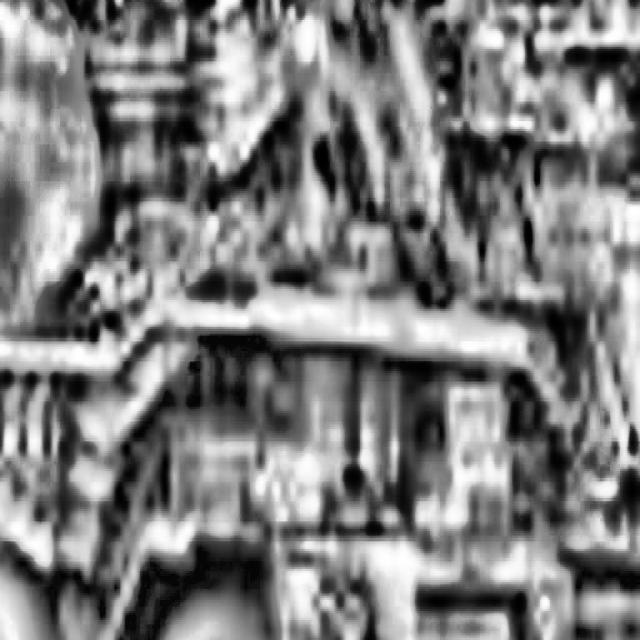dump_truck: (0, 275, 571, 640)
